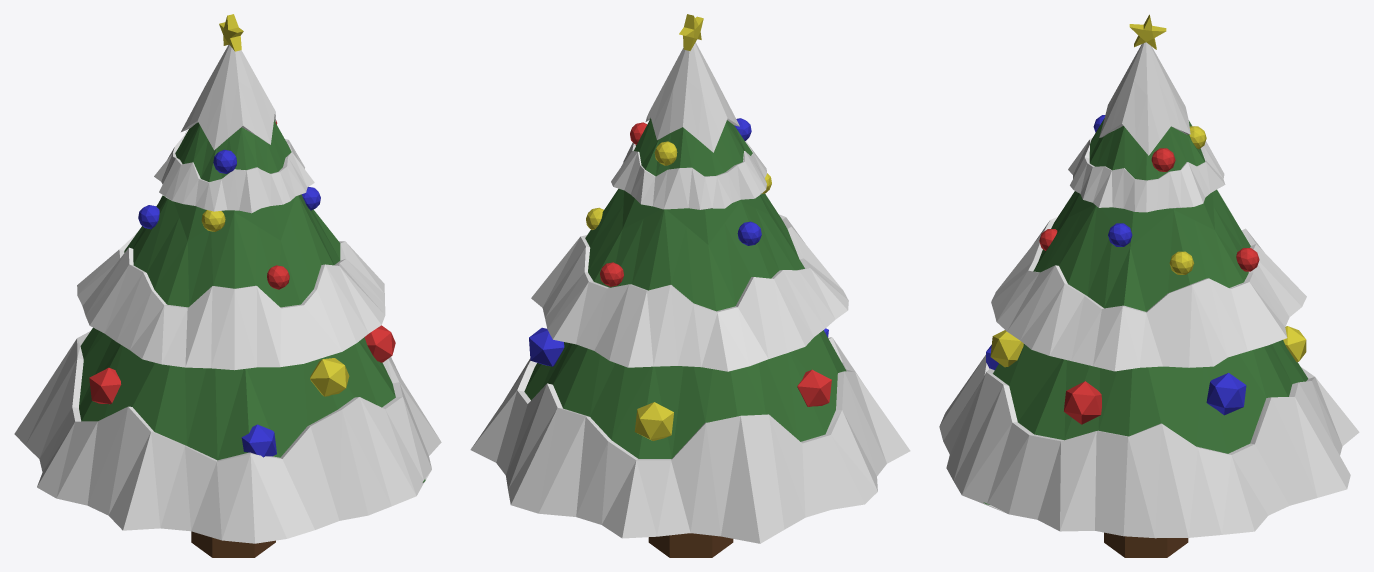
File: sneeuwboom_lights.dae
The picture shows the model from 3 angles, left to right: view 1: azimuth 30°, elevation 25°; view 2: azimuth 150°, elevation 25°; view 3: azimuth 270°, elevation 25°; orthographic projection.
Visible parts, largest first — view 1: Cone_002, Cone_001, Cone, Cylinder, Icosphere_004, Icosphere, Icosphere_006, Icosphere_007, Cylinder_001; view 2: Cone_002, Cone_001, Cone, Cylinder, Icosphere_005, Icosphere_003, Icosphere, Cylinder_001; view 3: Cone_002, Cone_001, Cone, Cylinder, Icosphere_003, Icosphere_007, Icosphere_004, Cylinder_001, Icosphere_005.
Boxes of the visible parts, box(x1,y1,x2,y2) form: Cone_002: box(14, 327, 441, 543); Cone_001: box(77, 194, 385, 370); Cone: box(154, 44, 314, 213); Cylinder: box(191, 531, 275, 557); Icosphere_004: box(310, 358, 349, 396); Icosphere: box(89, 367, 121, 404); Icosphere_006: box(241, 424, 276, 457); Icosphere_007: box(364, 325, 395, 362); Cylinder_001: box(219, 14, 243, 51); Cone_002: box(470, 330, 910, 543); Cone_001: box(531, 188, 848, 371); Cone: box(611, 42, 766, 209); Cylinder: box(648, 533, 733, 557); Icosphere_005: box(634, 402, 673, 440); Icosphere_003: box(529, 327, 564, 366); Icosphere: box(797, 369, 831, 406); Cylinder_001: box(679, 14, 703, 50); Cone_002: box(939, 340, 1359, 538); Cone_001: box(991, 189, 1306, 371); Cone: box(1068, 42, 1225, 212); Cylinder: box(1104, 532, 1188, 557); Icosphere_003: box(1206, 373, 1246, 415); Icosphere_007: box(1064, 381, 1101, 424); Icosphere_004: box(990, 330, 1023, 367); Cylinder_001: box(1129, 14, 1166, 49); Icosphere_005: box(1283, 326, 1306, 362).
Bounding box in the file's own units: 4.97 × 4.98 × 6.87.
